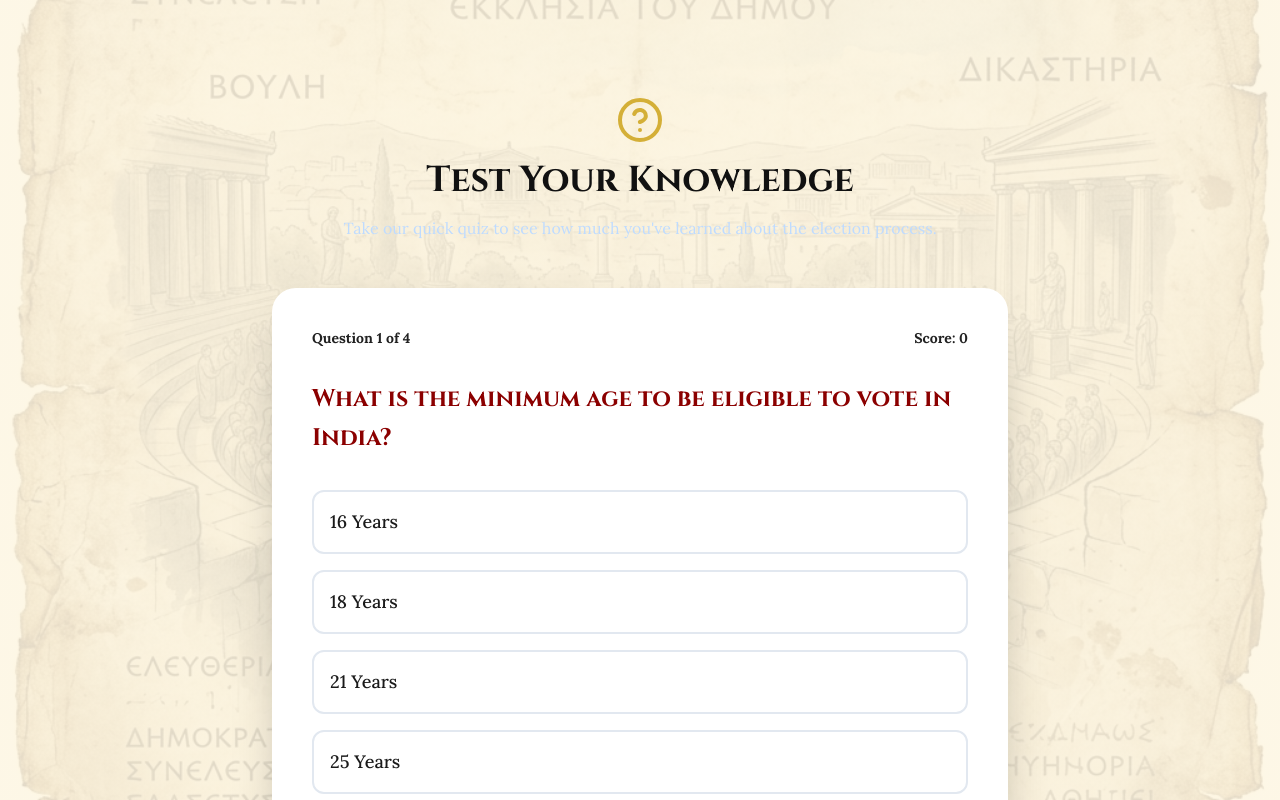
ElectionQuiz › allows selecting an option and checking the answer
# Select correct option
Click the button "18 Years".
click(364, 602)  # box x1=312 y1=570 x2=968 y2=634
(page scrolled)
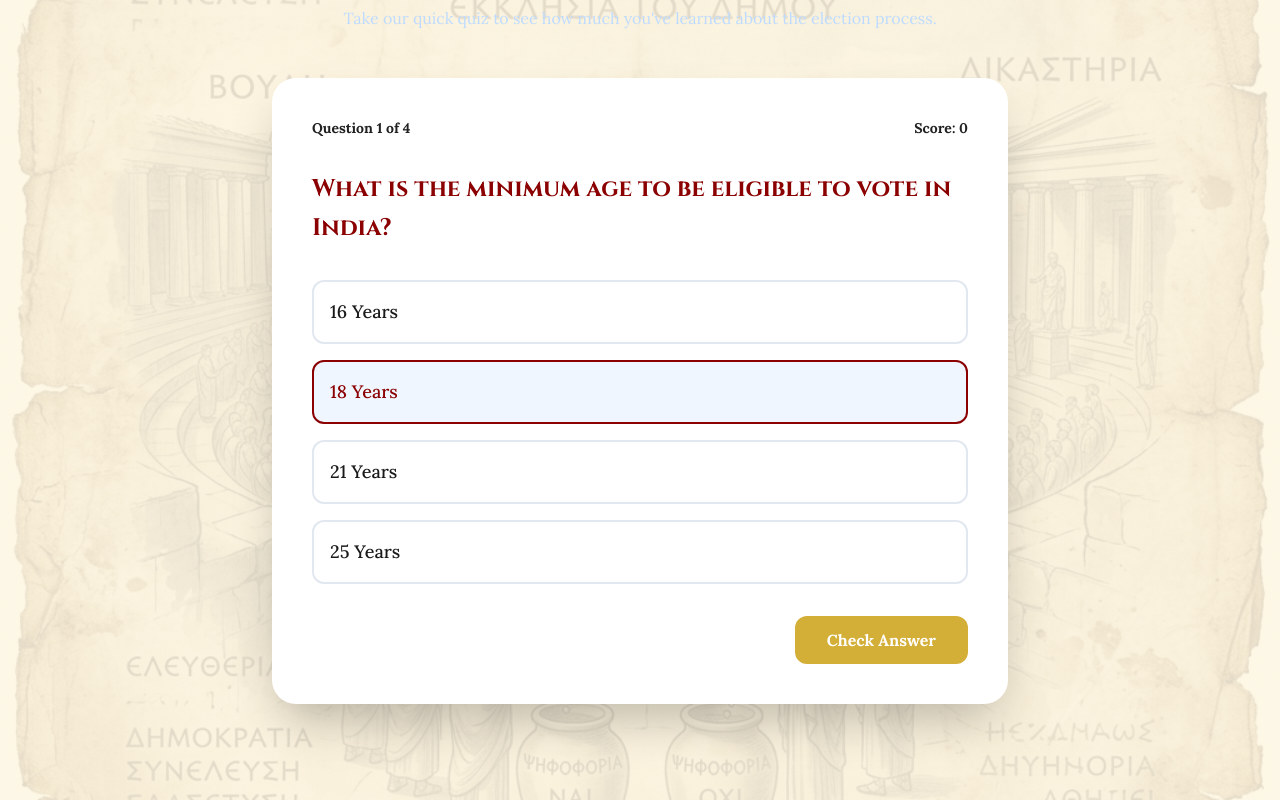
# Check answer
Click the button "Check Answer".
click(881, 640)  # box x1=795 y1=616 x2=968 y2=664
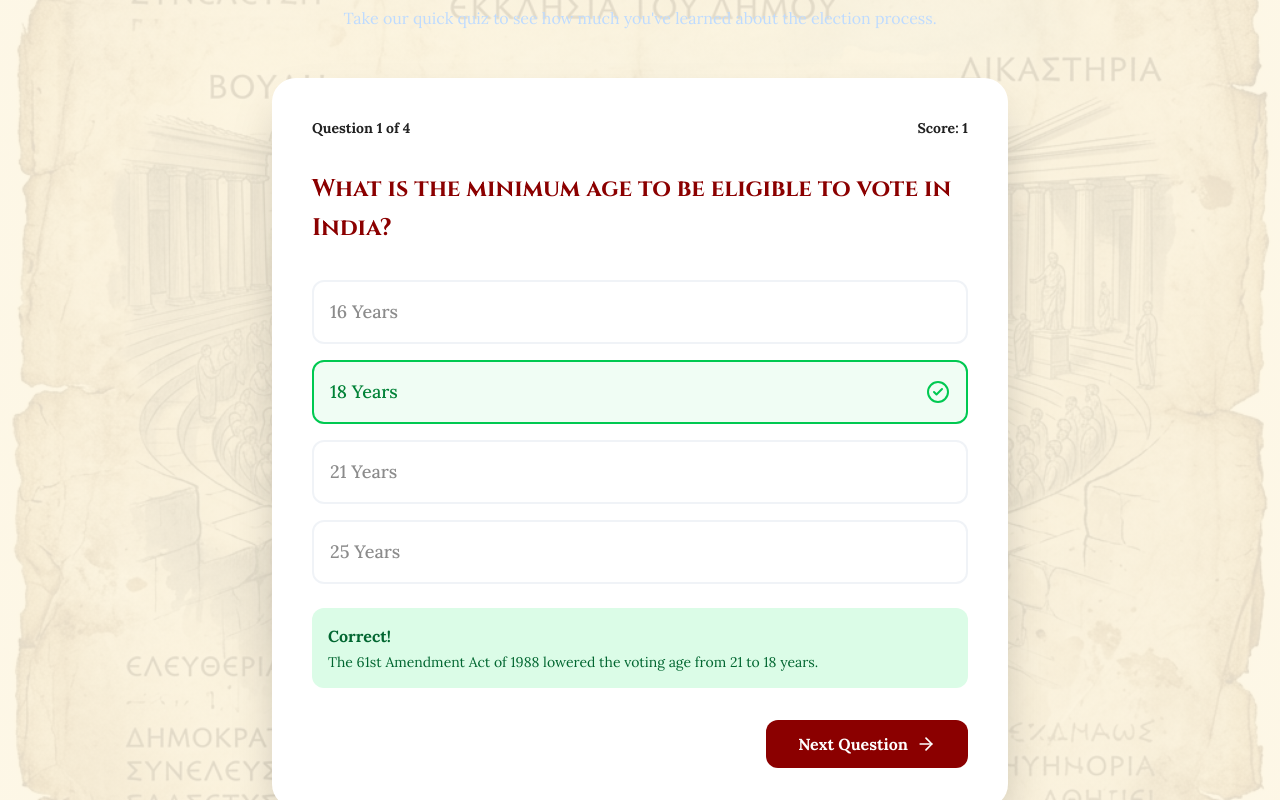
Expected: the text "Correct!" is shown, x1=328 y1=626 x2=391 y2=646
Expected: the button "Next Question" is shown, x1=766 y1=720 x2=968 y2=768
